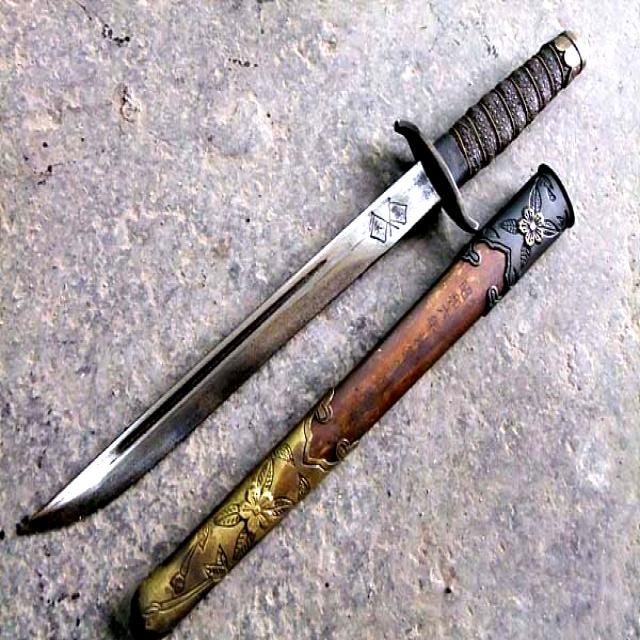short sword: (20, 27, 590, 640)
